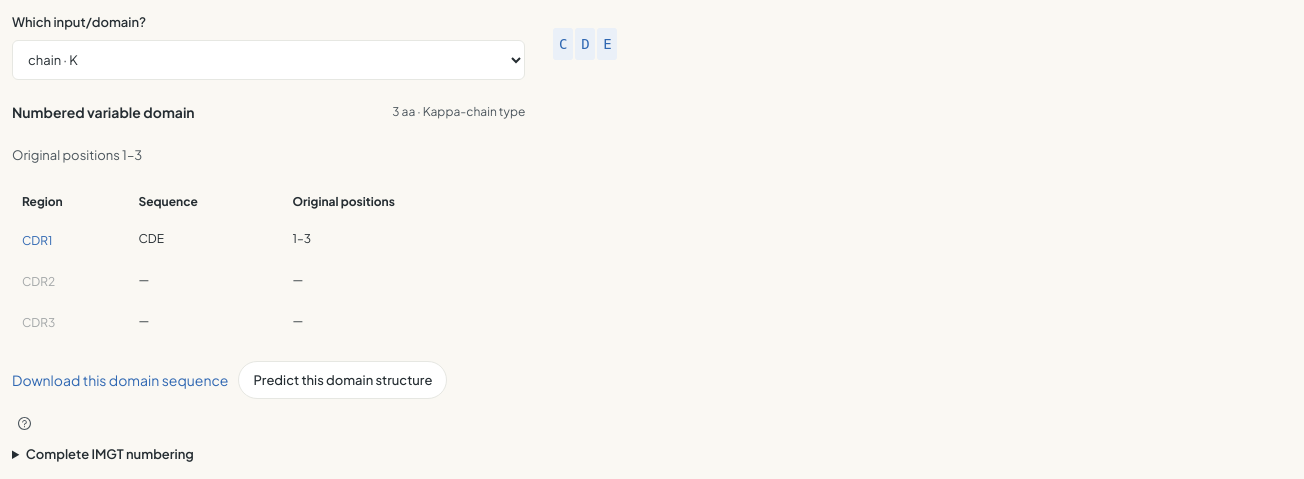
Test: hands off the exact saved domain sequence and exposes failed inputs without invented domains
Click the button "Predict this domain structure" at [343, 380], box [238,361,448,399]
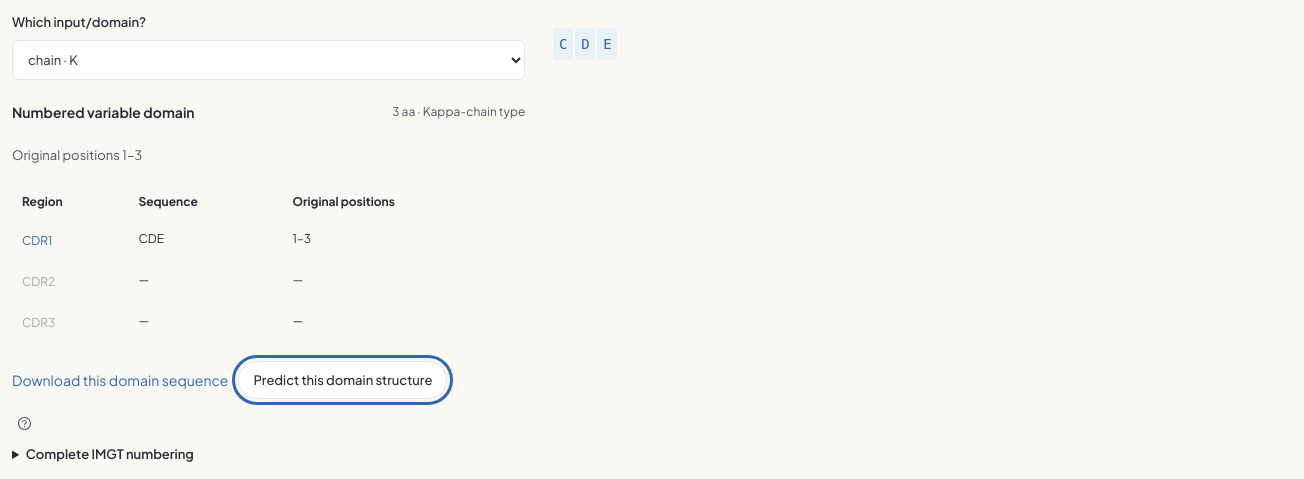
Select "failed · Unnumbered" in the dropdown labelled "Which input/domain?" at [269, 60], box [12,40,525,80]
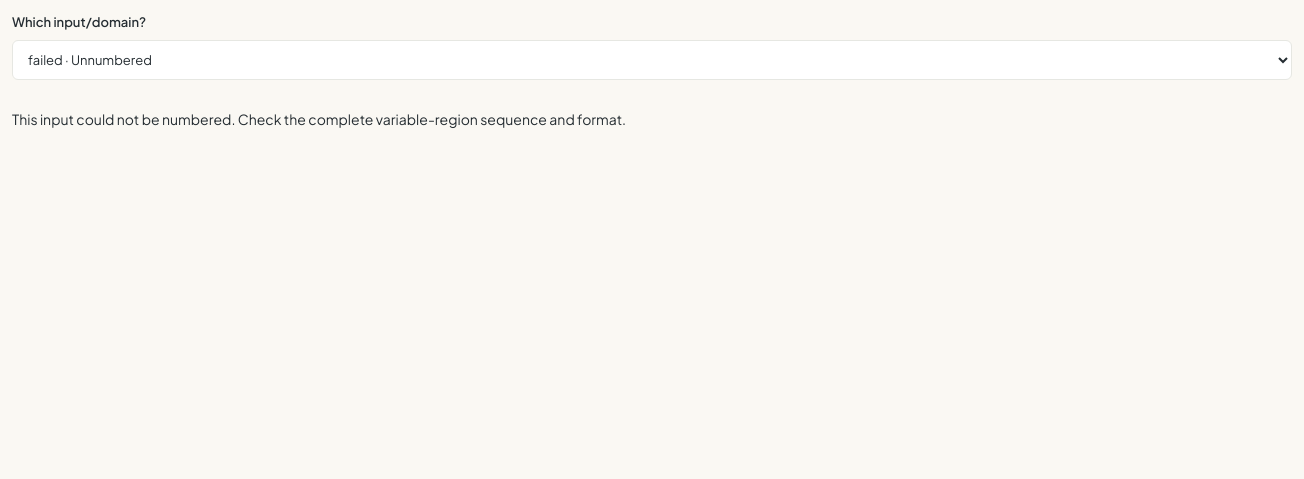
Expected: the message shows "This input could not be numbered", [12,110,626,128]
Expected: the button "Predict this domain structure" is gone
Expected: the link "Download this domain sequence" is gone
